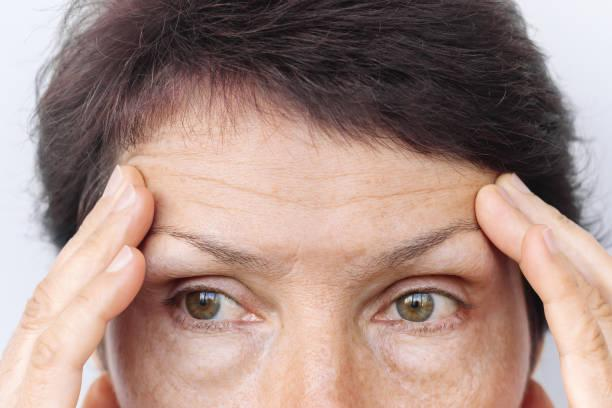Dry-Skin: (406, 198, 612, 300), (224, 123, 368, 251), (121, 140, 223, 272), (216, 340, 302, 408), (387, 343, 471, 406), (127, 308, 197, 372)
